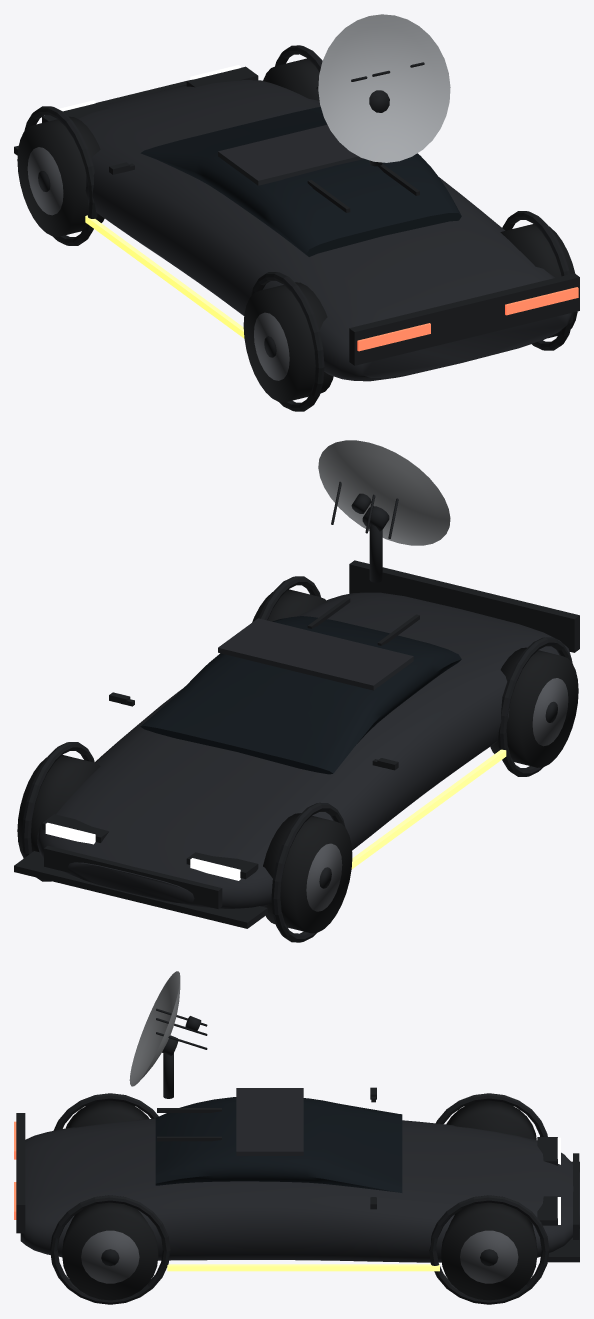
The model's file is arrow_game.glb.
The picture shows the model from 3 angles, top to bottom: view 1: azimuth 30°, elevation 25°; view 2: azimuth 150°, elevation 25°; view 3: azimuth 270°, elevation 25°; orthographic projection. The views are drawn at different scales.
Parts seen in each view (by area): view 1: arrow_body, arrow_cabin, dish, tail_panel, tyre.001, tyre, arrow_roof, arch.001, tyre.003, sill, arch, hub.001 (+7 smaller); view 2: arrow_body, arrow_cabin, dish, arrow_roof, tail_panel, tyre, tyre.001, splitter, tyre.002, grille, arch, arch.001 (+9 smaller); view 3: arrow_body, arrow_cabin, tyre.002, tyre.003, arrow_roof, dish, arch.003, arch.002, hub.003, hub.002, tyre, sill.001 (+9 smaller).
Part boxes in pixels (x1,y1,x2,y2): arrow_body: (78,80,571,381); arrow_cabin: (140,107,461,256); dish: (318,14,450,162); tail_panel: (349,273,579,365); tyre.001: (243,282,333,402); tyre: (17,116,104,236); arrow_roof: (218,124,364,185); arch.001: (250,272,324,411); tyre.003: (500,224,577,338); sill: (85,215,244,338); arch: (24,106,97,245); hub.001: (254,312,289,380); arrow_body: (37,592,572,908); arrow_cabin: (140,616,461,774); dish: (318,440,450,545); arrow_roof: (218,618,413,690); tail_panel: (349,560,579,652); tyre: (263,813,352,933); tyre.001: (490,647,578,767); splitter: (14,851,267,928); tyre.002: (17,755,100,858); grille: (44,845,222,908); arch: (271,802,345,942); arch.001: (498,637,571,776); arrow_body: (20,1118,579,1262); arrow_cabin: (155,1097,402,1192); tyre.002: (441,1202,537,1300); tyre.003: (62,1202,158,1300); arrow_roof: (236,1088,303,1155); dish: (129,971,180,1086); arch.003: (50,1195,170,1304); arch.002: (429,1195,549,1304); hub.003: (81,1230,139,1283); hub.002: (460,1230,518,1283); tyre: (446,1100,536,1139); sill.001: (167,1264,439,1271).
Size of the model in its own units: 2.13 by 2.35 by 4.36.
